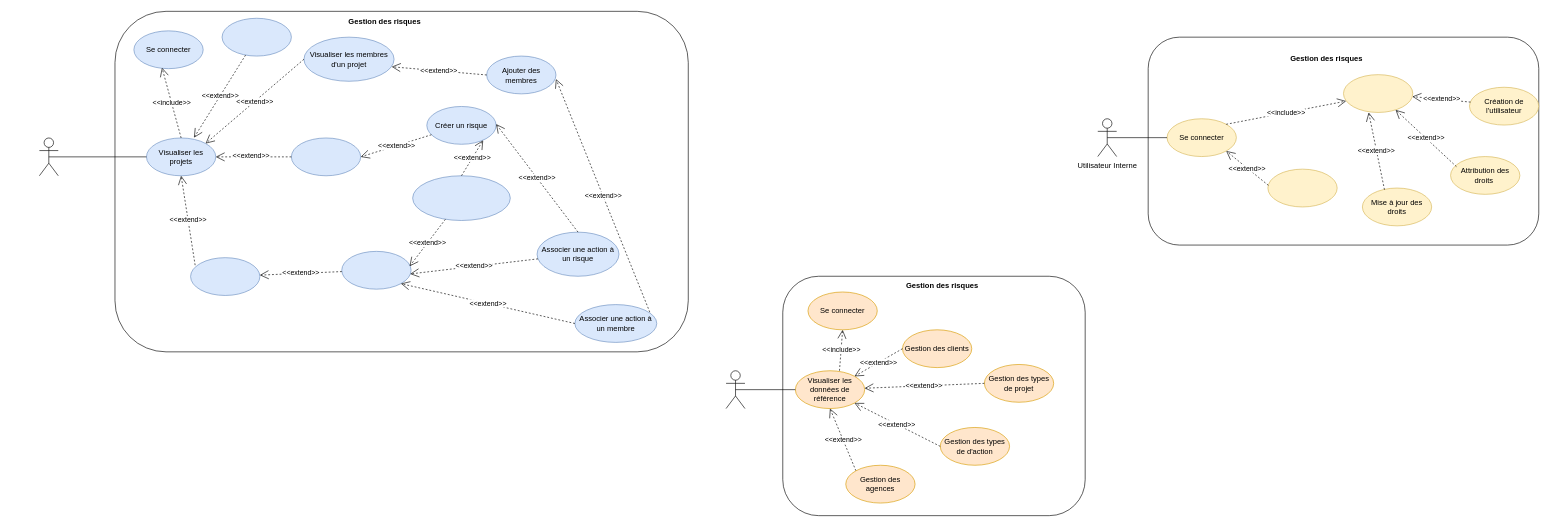
Some shapes in this 1550 by 527 pixel diagram are drawn without their labels. Each missing label, with the box of its shape:
Administrateur: (725, 370, 745, 409)
Afficher erreur de connexion: (1267, 169, 1337, 207)
Associer un risque à une action: (412, 175, 510, 220)
Créer un projet: (221, 18, 291, 56)
Créer une action: (341, 251, 411, 289)
Responsable de projet: (39, 137, 58, 176)
Visualiser les actions: (190, 257, 260, 295)
Visualiser les risques: (291, 137, 361, 176)
Vérification utilisateur: (1343, 74, 1413, 112)
